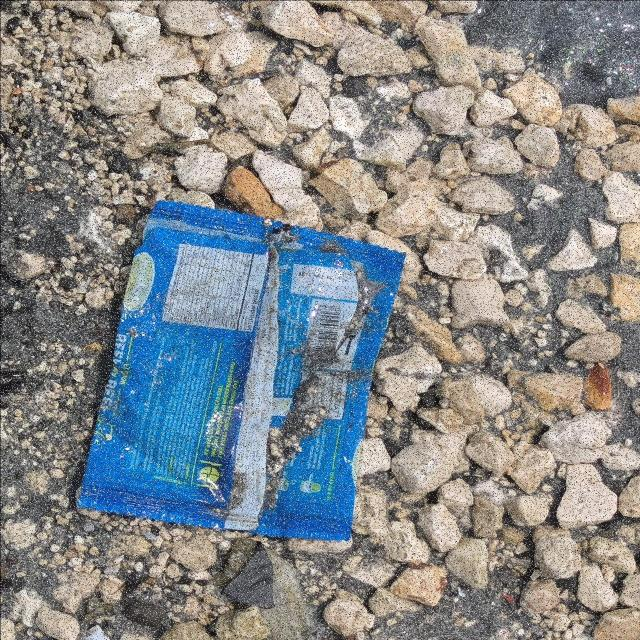plastic_waste: (77, 199, 410, 544)
